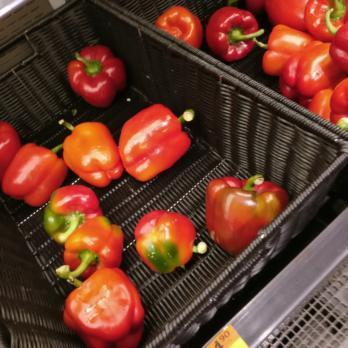Capsicum: (269, 0, 348, 106), (56, 272, 152, 348), (47, 188, 131, 268), (118, 99, 194, 182), (0, 113, 67, 204), (157, 3, 259, 61), (202, 172, 279, 246), (59, 40, 126, 104), (59, 119, 121, 185), (132, 209, 197, 271)
